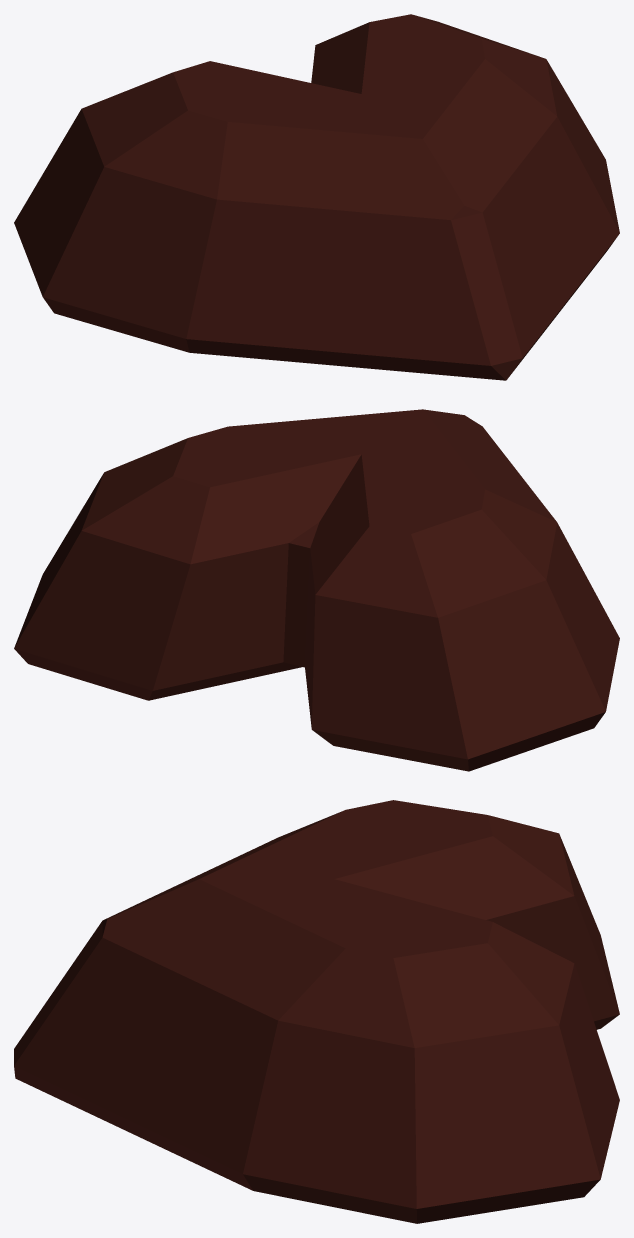
The model's file is 532_chocolate_bullet.fbx.
The picture shows the model from 3 angles, top to bottom: view 1: azimuth 30°, elevation 25°; view 2: azimuth 150°, elevation 25°; view 3: azimuth 270°, elevation 25°; orthographic projection. The views are drawn at different scales.
Parts seen in each view (by area): view 1: bullet; view 2: bullet; view 3: bullet.
Part boxes in pixels (<box>): bullet: <box>14,14,619,380</box>; bullet: <box>14,409,619,771</box>; bullet: <box>14,800,619,1223</box>.
Size of the model in its own units: 154 by 47.13 by 130.
